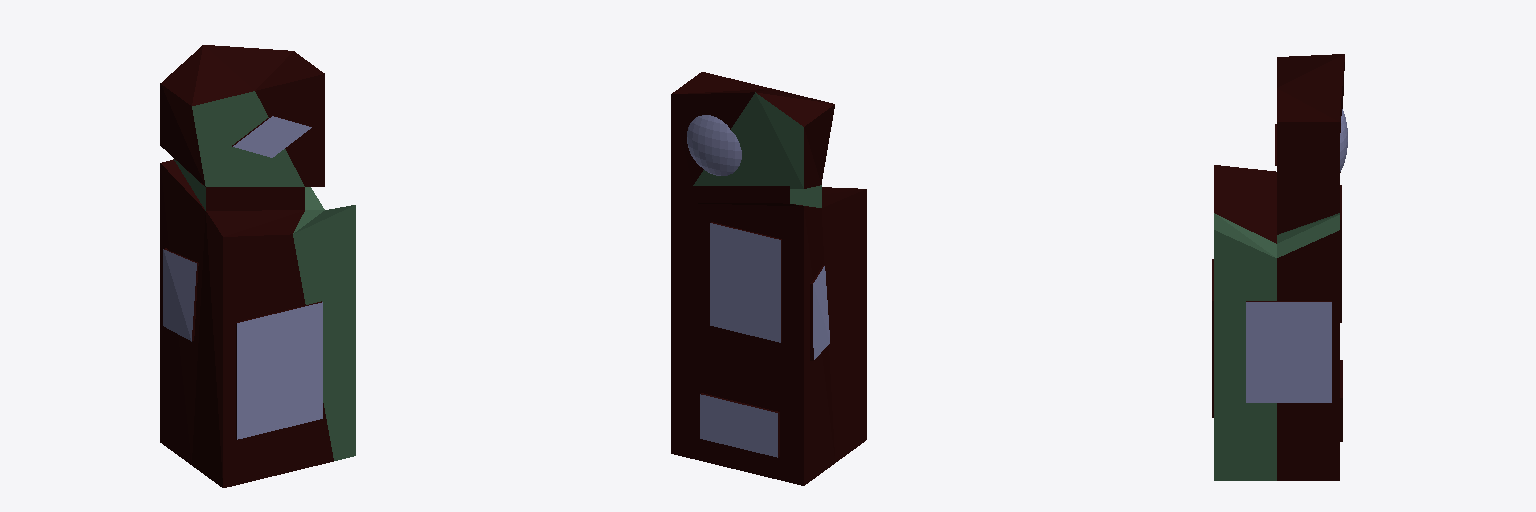
The model's file is skyscraper2.obj.
3 renders of one model, left to right at view 1: azimuth 30°, elevation 25°; view 2: azimuth 150°, elevation 25°; view 3: azimuth 270°, elevation 25°, orthographic.
Parts seen in each view (by area): view 1: Cube; view 2: Cube; view 3: Cube.
Part boxes in pixels (x1,y1,x2,y2): Cube: (160, 45, 355, 487); Cube: (671, 72, 866, 485); Cube: (1212, 54, 1347, 480).
Size of the model in its own units: 6.86 by 18.18 by 5.84.